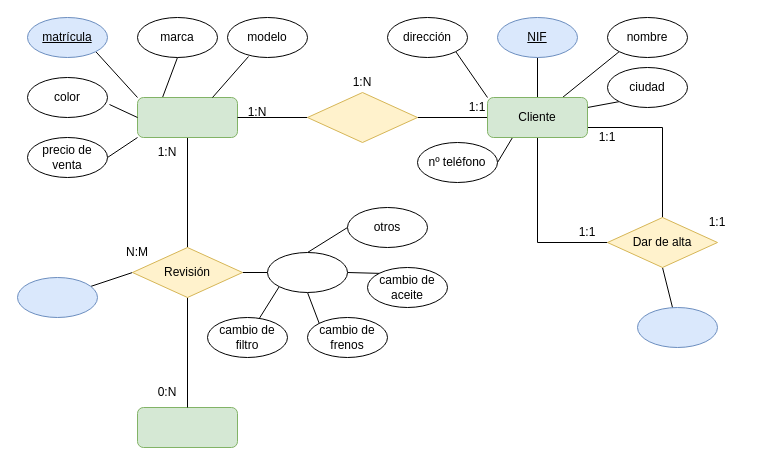
Some shapes in this 765 by 465 pixel diagram are drawn without their labels. The shapes that lost their labels are listed below. From the top down, each one's centre as x and y in pixels, then its label:
point (187, 117): Coche
point (362, 117): Compra
point (307, 272): Tipo de revisión
point (57, 297): código
point (677, 327): código interno
point (187, 427): Concesionario
